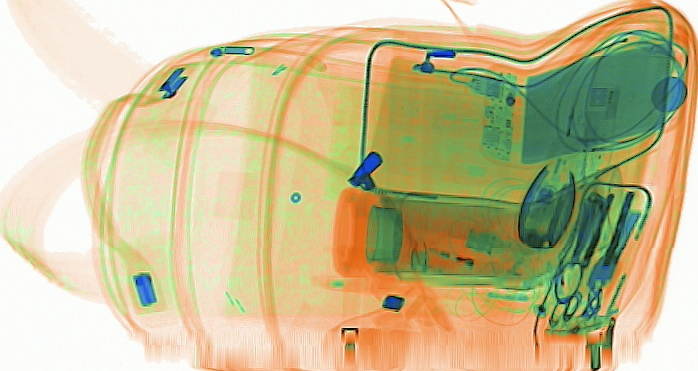lighter: (407, 237, 494, 277)
